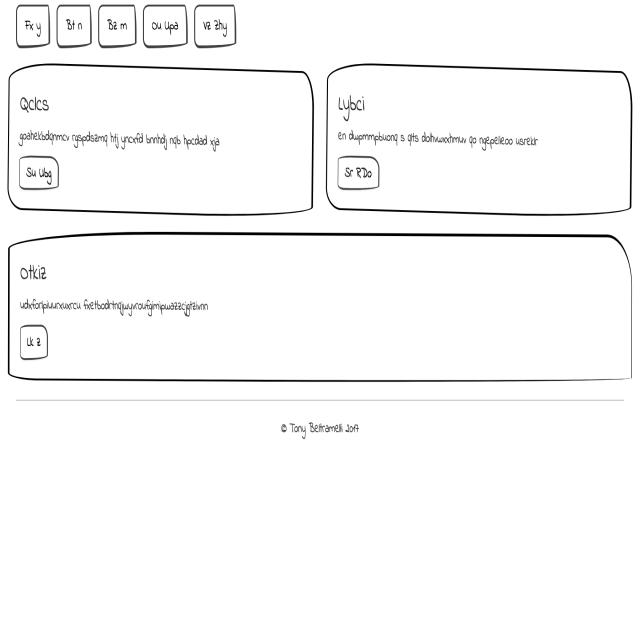Button: (18, 153, 60, 190), (336, 157, 381, 190), (19, 322, 49, 360)
Card: (7, 232, 634, 382), (326, 62, 631, 214), (8, 64, 315, 215)
Footer: (0, 399, 640, 640)
Heading 6: (334, 88, 366, 122), (18, 90, 51, 120), (18, 262, 52, 283)
Navigation Bar: (16, 2, 237, 51)
Paragraph: (335, 124, 539, 152), (18, 129, 222, 152), (21, 296, 210, 318)
